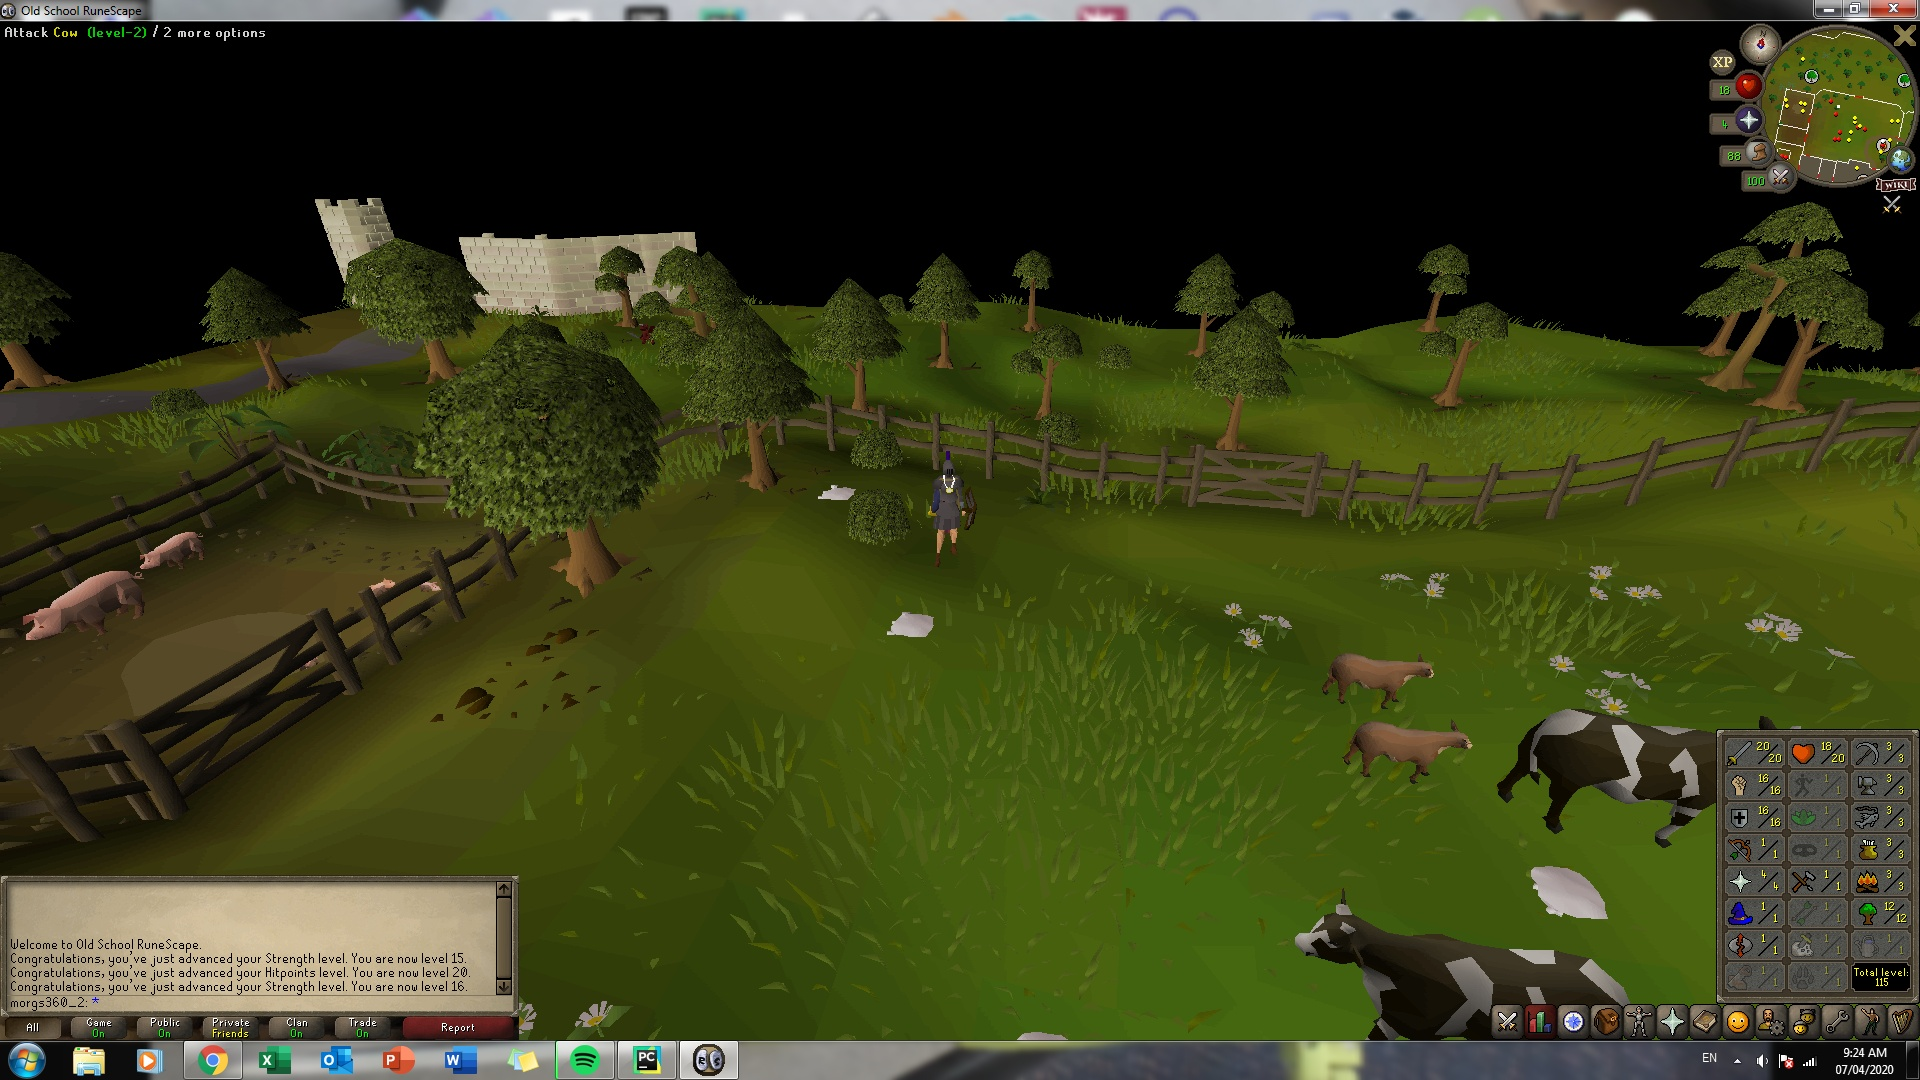cow: (1283, 889, 1639, 1004), (1497, 696, 1716, 853)
